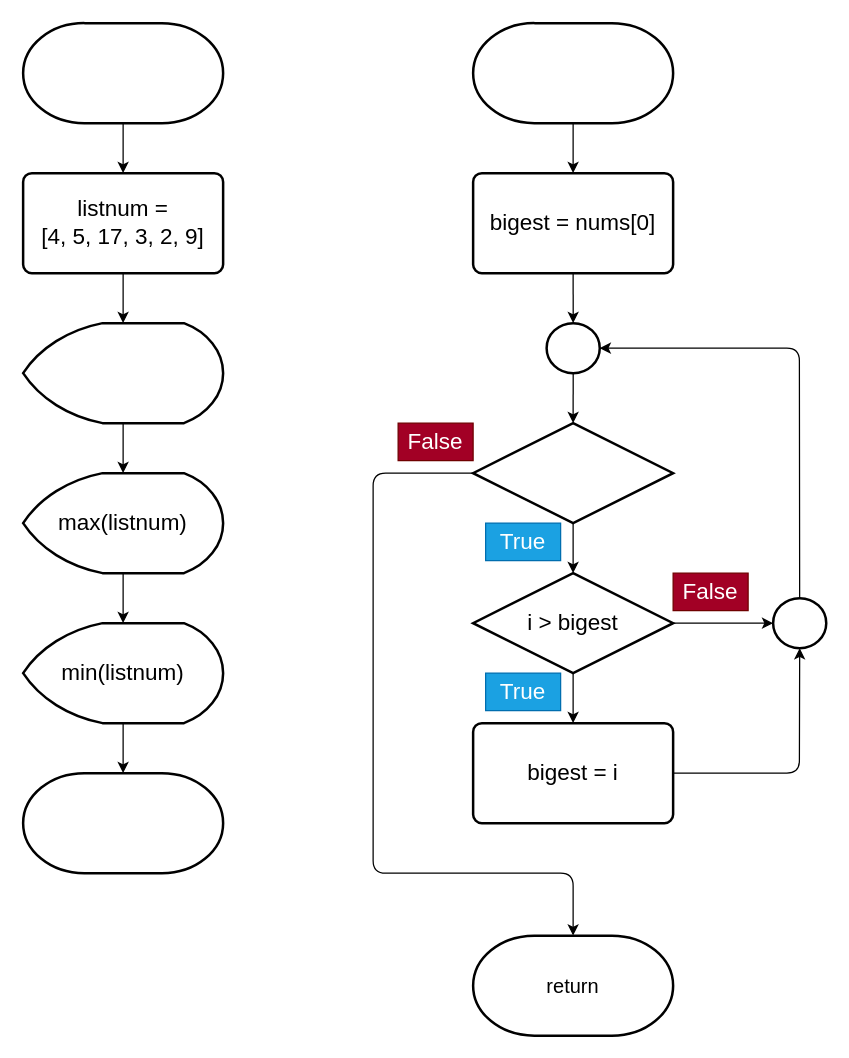
This 849x1058 diagram has some shape labels left out. The shapes that lost their labels are listed below. From the top down, each one's box as (x1, y1, x2, y2) in pixels, then its label:
(21, 21, 224, 124): Start
(471, 21, 674, 124): findBigestNum
(21, 321, 224, 424): findBigestNum (listnum)
(471, 421, 674, 524): i in nums
(21, 771, 224, 874): End
